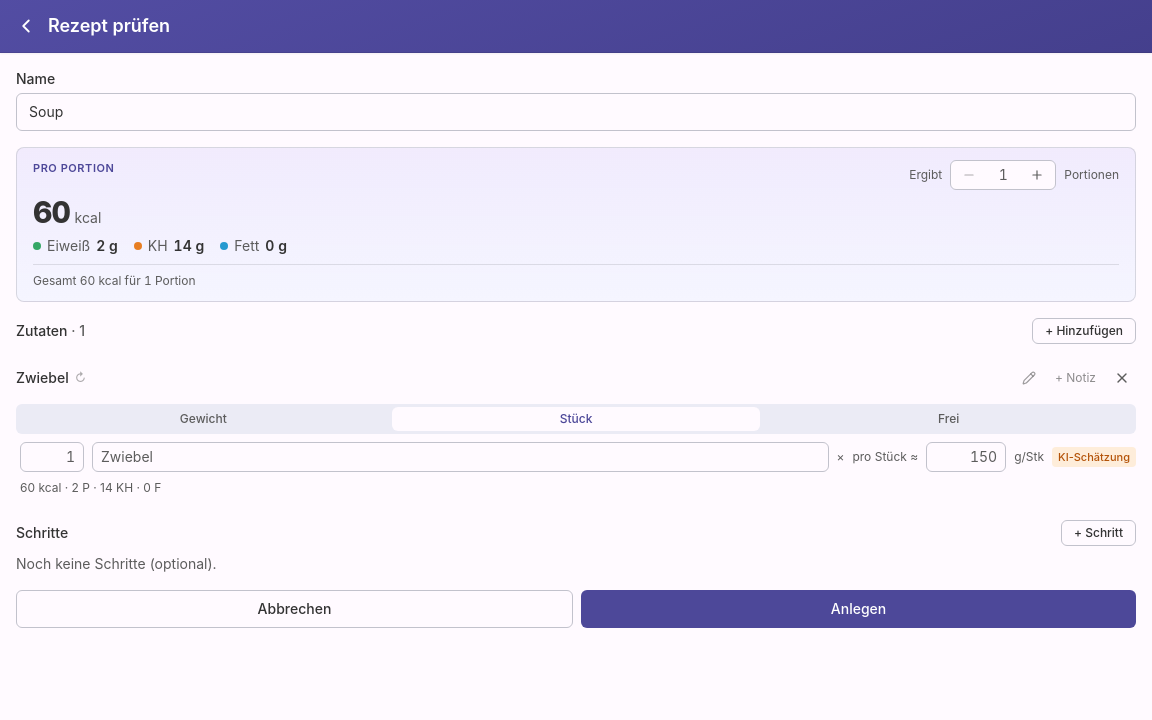
it: ReviewImportScreen › clears the AI-estimate badge after a swap, even if pieceQuantity is preserved
Expected: the text "KI-Schätzung" is shown, [1052,447,1136,467]
Click the button with test id "replace-row-0" at (42,378), box [12,360,1003,396]
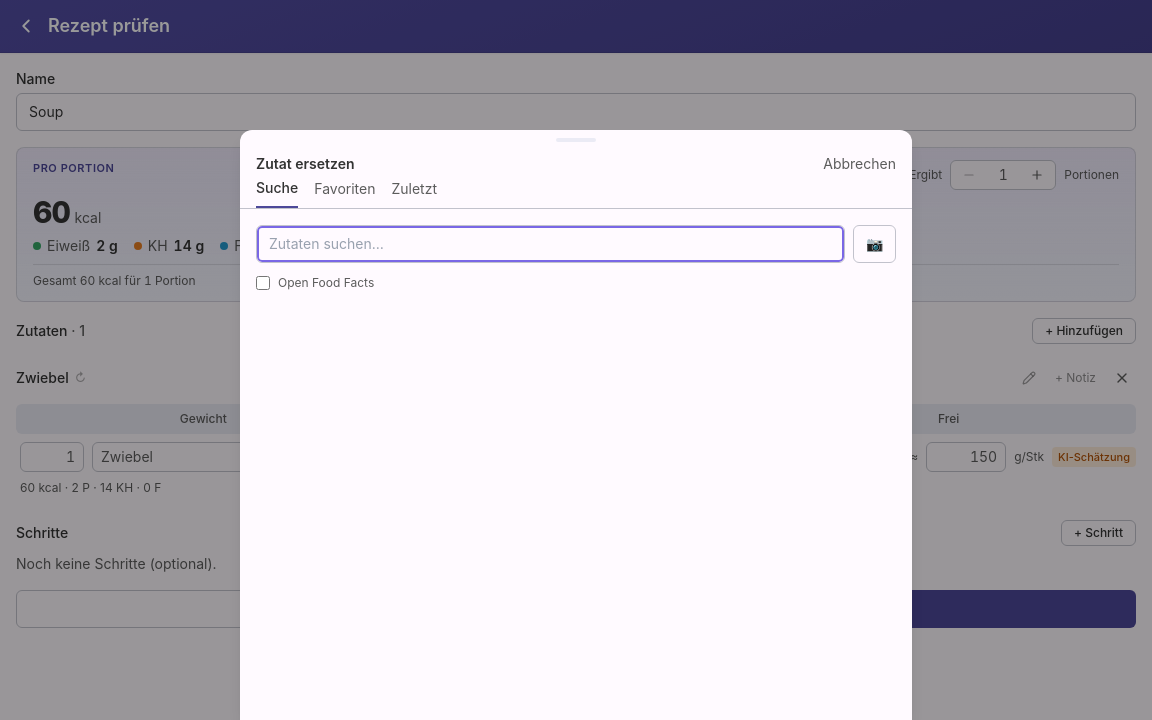
Type "schal" into the search field at (550,244), box [256,225,845,263]
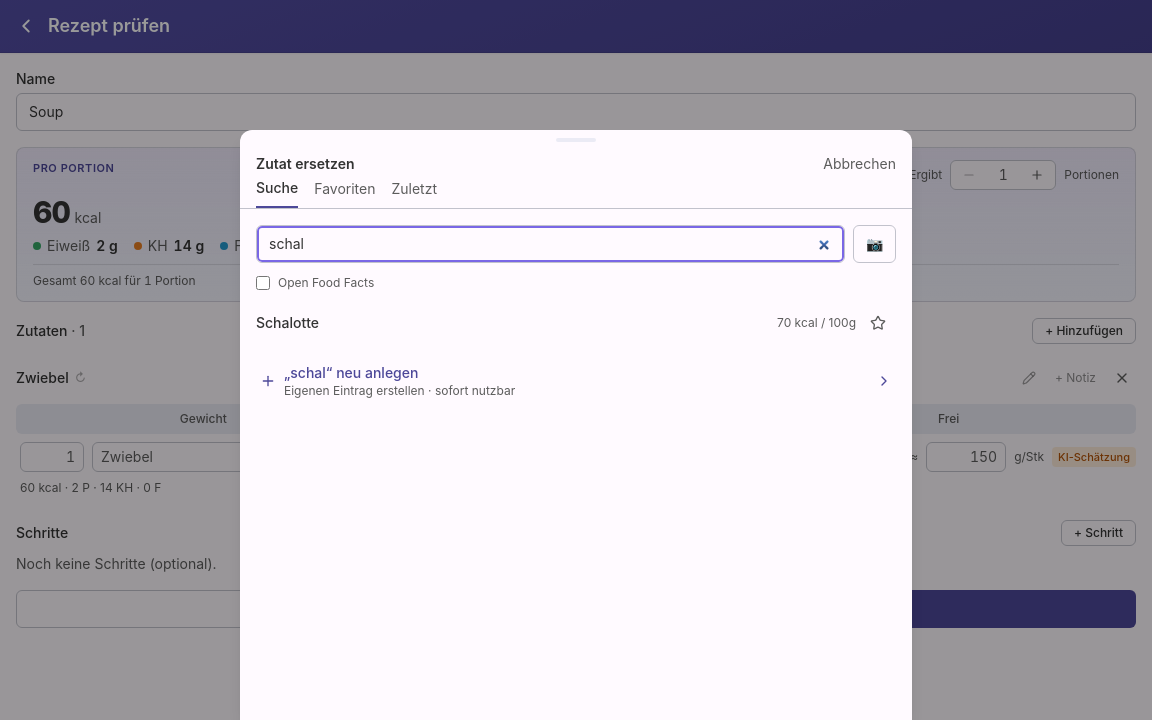
Click the button "Schalotte 70 kcal / 100g" at (288,322), box [256,303,856,343]
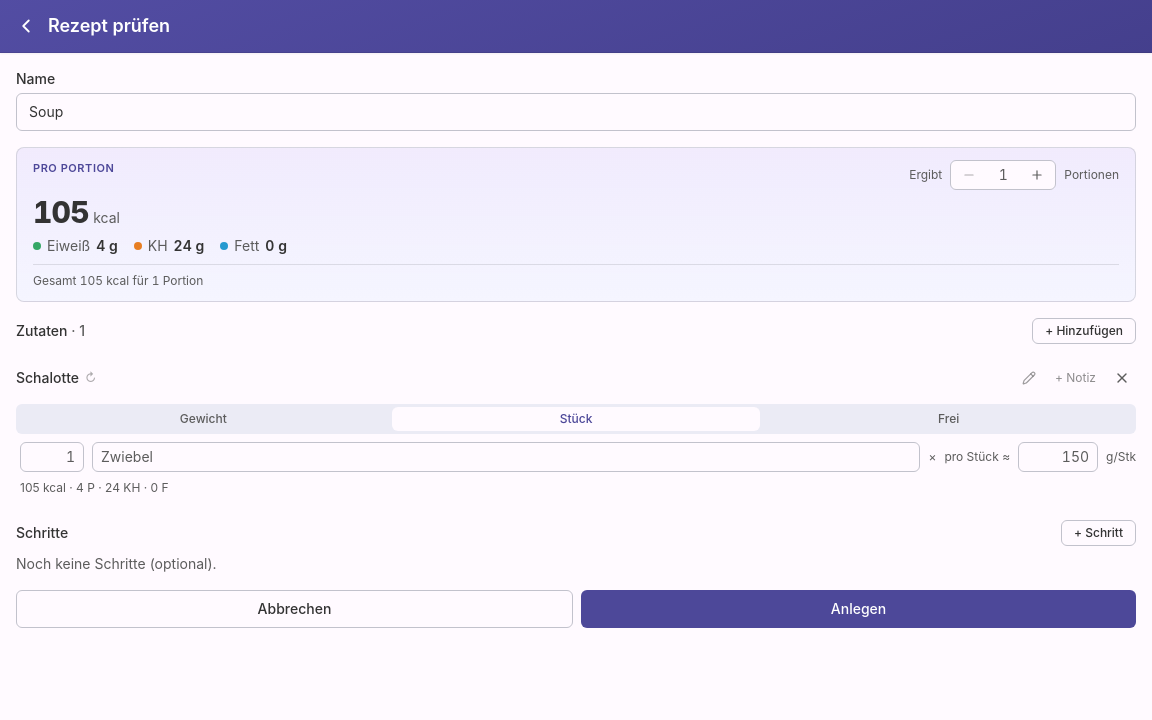
Now the text with test id "piece-estimate-0" is gone
